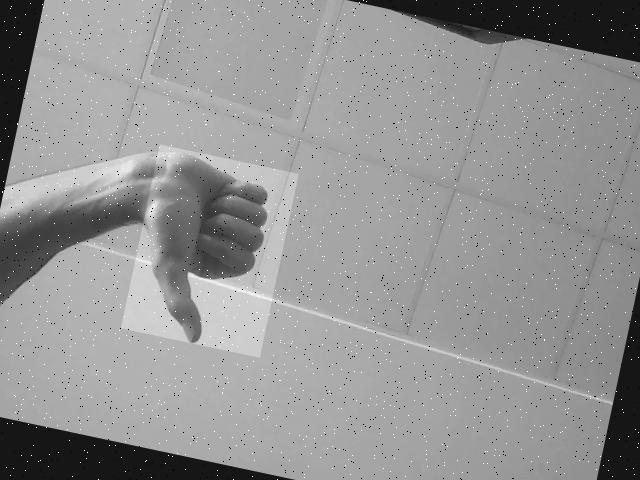bad: (120, 144, 298, 358)
